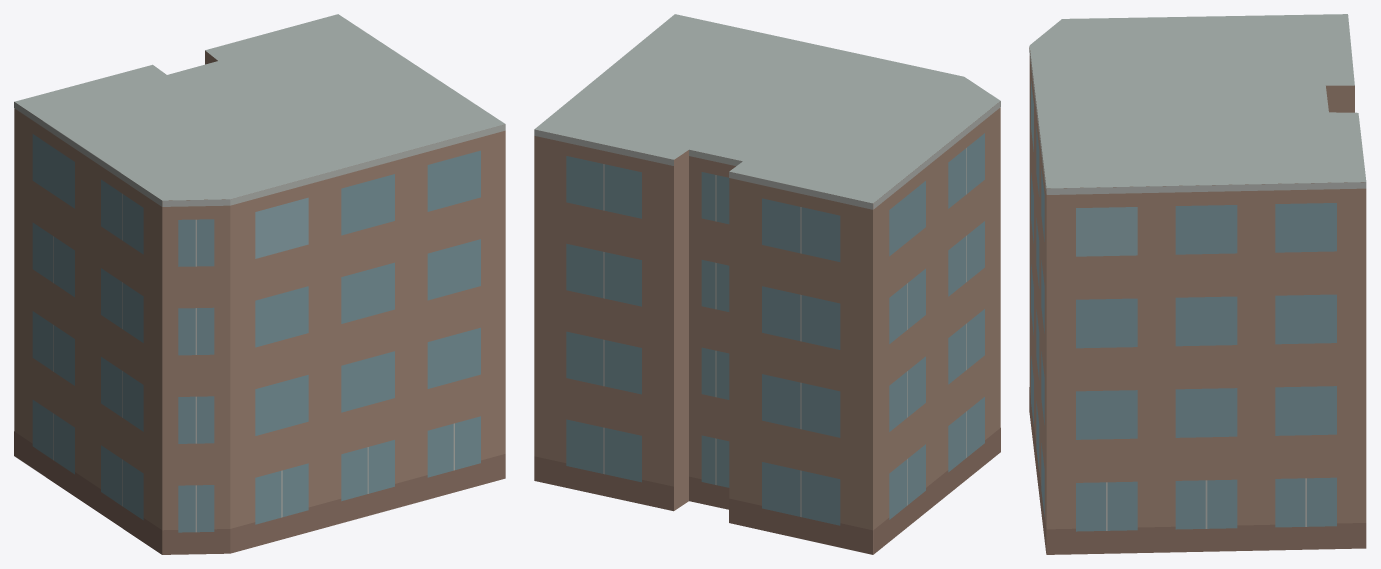
File: survey-upis-33037769.glb
3 renders of one model, left to right at view 1: azimuth 30°, elevation 25°; view 2: azimuth 150°, elevation 25°; view 3: azimuth 270°, elevation 25°, orthographic. The views are drawn at different scales.
Visible parts, largest first — view 1: survey-upis-33037769.tmp; view 2: survey-upis-33037769.tmp; view 3: survey-upis-33037769.tmp.
Boxes of the visible parts, left/top/right/bottom form: survey-upis-33037769.tmp: left=14, top=14, right=505, bottom=554; survey-upis-33037769.tmp: left=534, top=14, right=1000, bottom=554; survey-upis-33037769.tmp: left=1029, top=14, right=1366, bottom=554.
Size of the model in its own units: 13.8 by 13.51 by 11.27.
